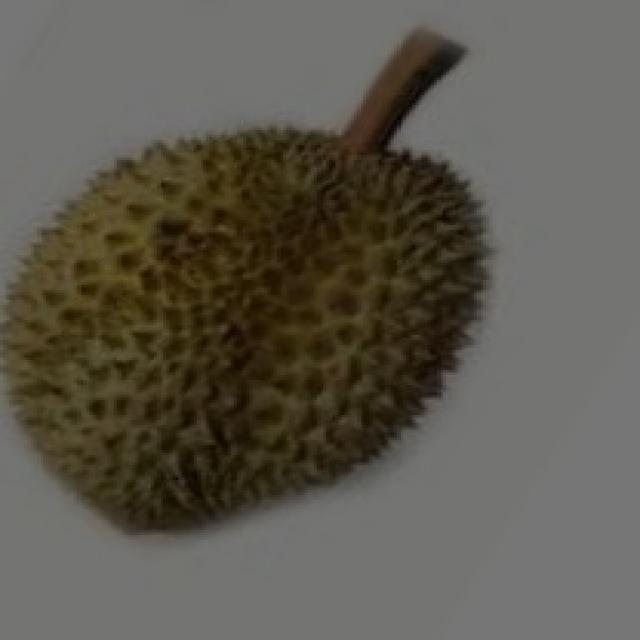fruit: (0, 140, 415, 577)
